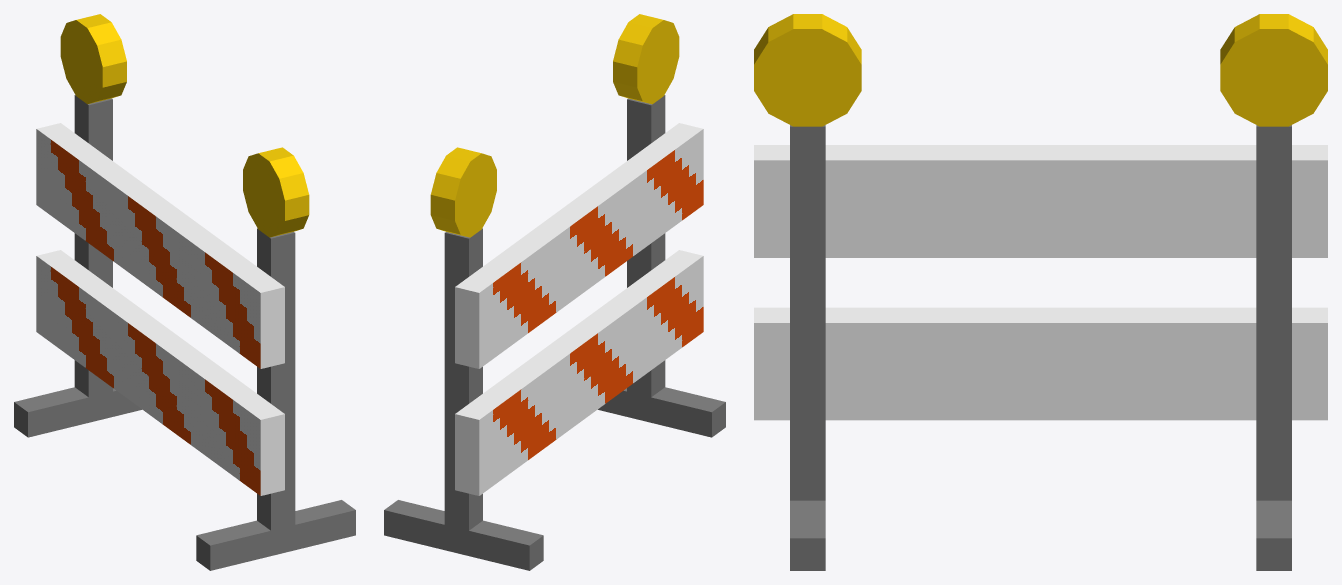
Rendered from barrier.fbx.
The picture shows the model from 3 angles, left to right: view 1: azimuth 30°, elevation 25°; view 2: azimuth 150°, elevation 25°; view 3: azimuth 270°, elevation 25°; orthographic projection. The views are drawn at different scales.
Visible parts, largest first — view 1: mesh_3, mesh_1, mesh_2, mesh, cylinder_1, cylinder; view 2: mesh_3, mesh_1, mesh, mesh_2, cylinder, cylinder_1; view 3: mesh_3, mesh_1, mesh, mesh_2, cylinder, cylinder_1.
Boxes of the visible parts, x1=… form: mesh_3: x1=36, y1=250, x2=284, y2=495; mesh_1: x1=36, y1=123, x2=284, y2=368; mesh_2: x1=196, y1=228, x2=355, y2=570; mesh: x1=14, y1=95, x2=141, y2=437; cylinder_1: x1=243, y1=147, x2=309, y2=237; cylinder: x1=60, y1=14, x2=126, y2=104; mesh_3: x1=455, y1=250, x2=703, y2=495; mesh_1: x1=455, y1=123, x2=703, y2=368; mesh: x1=384, y1=228, x2=543, y2=570; mesh_2: x1=598, y1=95, x2=725, y2=437; cylinder: x1=430, y1=147, x2=496, y2=237; cylinder_1: x1=613, y1=14, x2=679, y2=104; mesh_3: x1=754, y1=307, x2=1327, y2=420; mesh_1: x1=754, y1=145, x2=1327, y2=257; mesh: x1=1256, y1=125, x2=1291, y2=570; mesh_2: x1=790, y1=125, x2=825, y2=570; cylinder: x1=1220, y1=14, x2=1327, y2=126; cylinder_1: x1=754, y1=14, x2=861, y2=126.
Size of the model in its own units: 75 by 194 by 200.
Materials: 3 (3 with a texture image).
